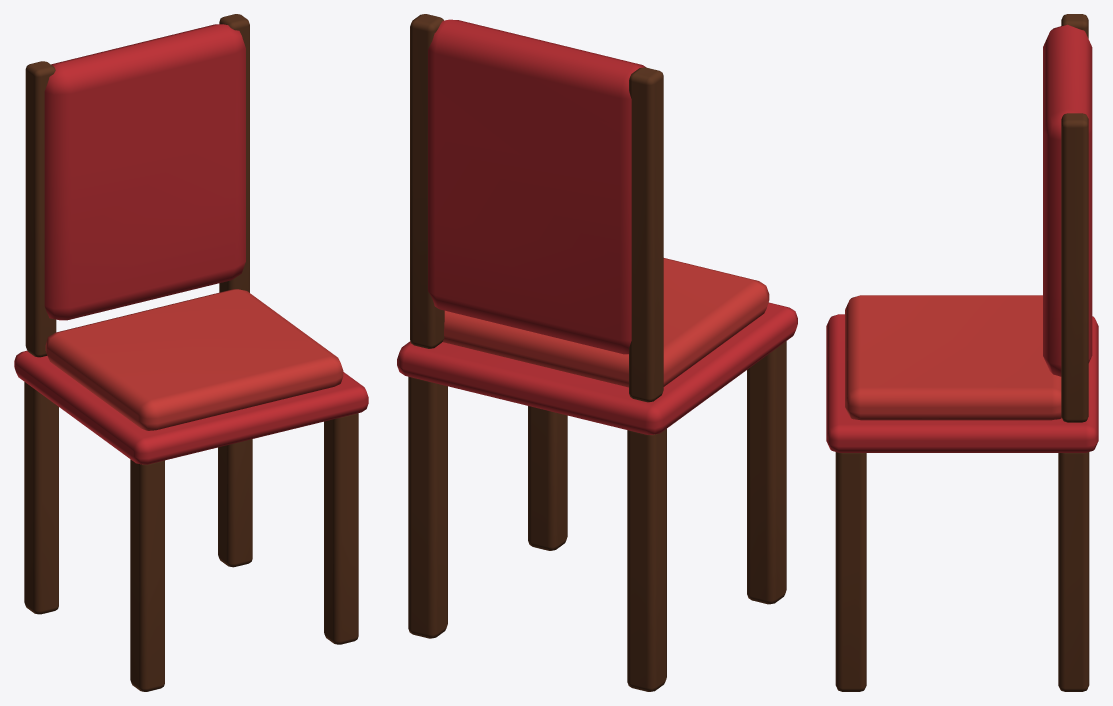
File: furn_dining_chair.glb
3 renders of one model, left to right at view 1: azimuth 30°, elevation 25°; view 2: azimuth 150°, elevation 25°; view 3: azimuth 270°, elevation 25°, orthographic. The views are drawn at different scales.
Parts seen in each view (by area): view 1: furn_dining_chair_main; view 2: furn_dining_chair_main; view 3: furn_dining_chair_main.
Part boxes in pixels (x1=…): furn_dining_chair_main: x1=14, y1=14, x2=368, y2=691; furn_dining_chair_main: x1=397, y1=14, x2=797, y2=691; furn_dining_chair_main: x1=826, y1=14, x2=1098, y2=691.
Size of the model in its own units: 0.46 by 1.02 by 0.44.
